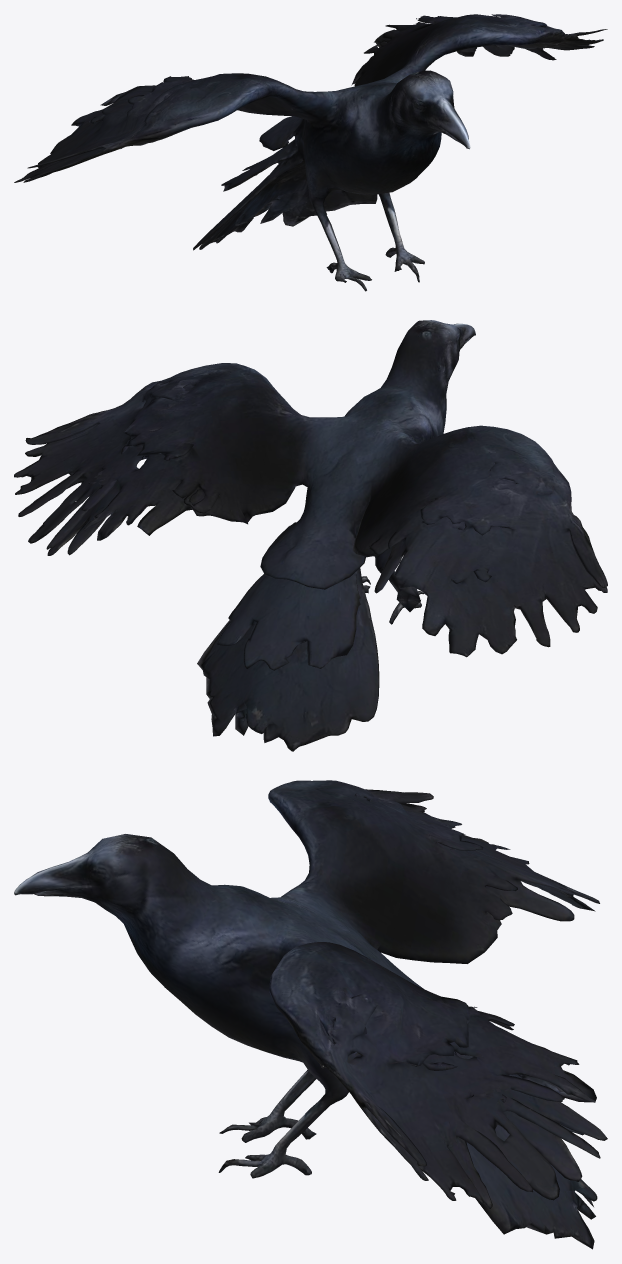
File: raven.glb
The picture shows the model from 3 angles, top to bottom: view 1: azimuth 30°, elevation 25°; view 2: azimuth 150°, elevation 25°; view 3: azimuth 270°, elevation 25°; orthographic projection. The views are drawn at different scales.
Size of the model in its own units: 2 by 0.9556 by 1.34.
Materials: 1 (1 with a texture image).
